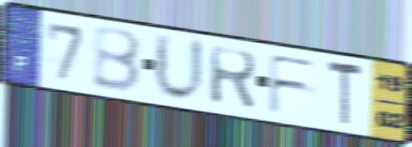7: (44, 20, 87, 82)
B: (91, 25, 145, 96)
F: (267, 52, 321, 116)
R: (207, 44, 259, 113)
T: (326, 57, 366, 129)
U: (152, 30, 208, 106)
